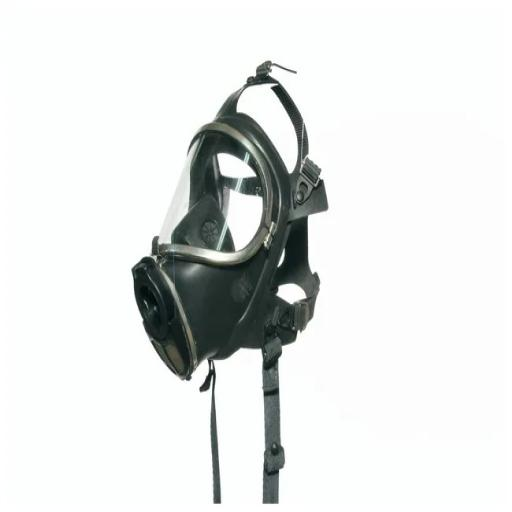mask: (127, 48, 341, 485)
